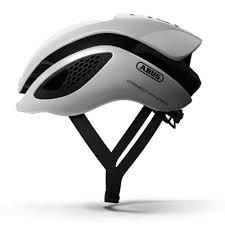helmet: (5, 7, 225, 225)
